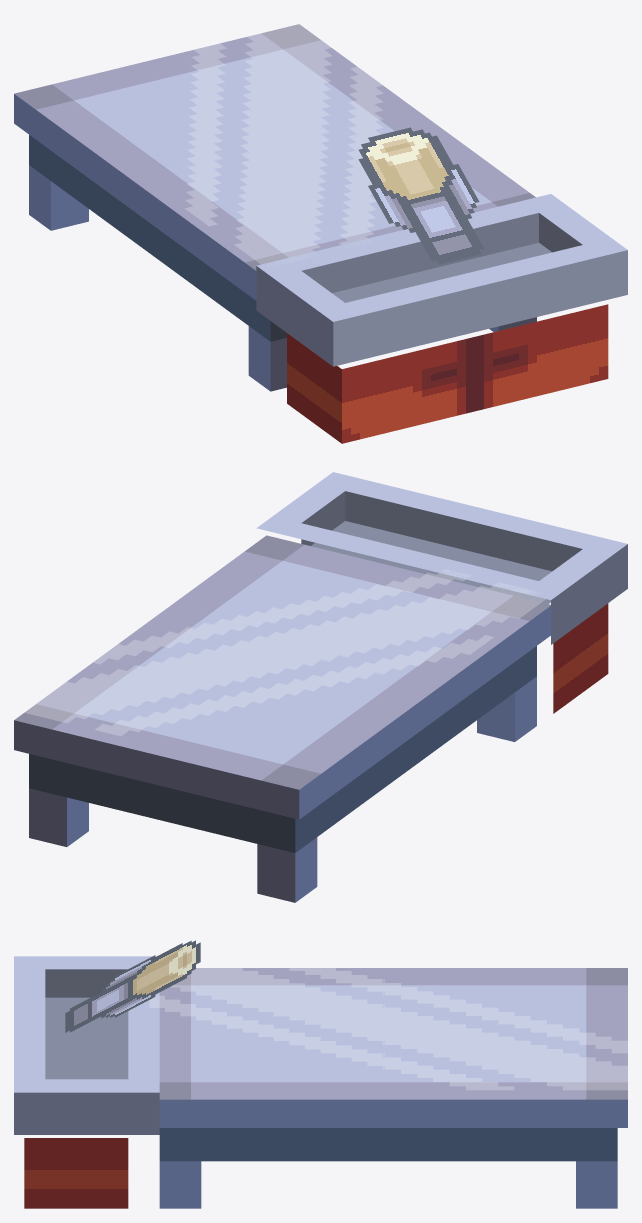
The picture shows the model from 3 angles, top to bottom: view 1: azimuth 30°, elevation 25°; view 2: azimuth 150°, elevation 25°; view 3: azimuth 270°, elevation 25°; orthographic projection. The views are drawn at different scales.
Size of the model in its own units: 1.94 by 1.31 by 3.69.
Materials: 4 (4 with a texture image).
